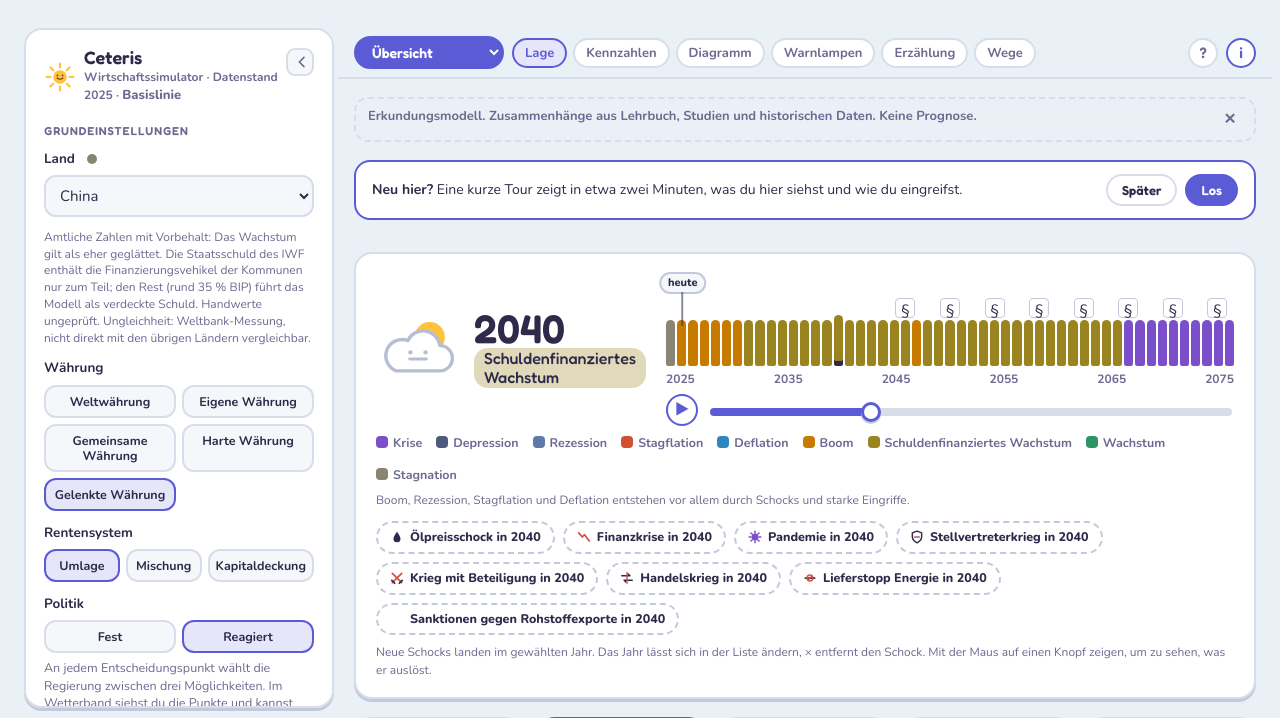
Update 2 in der Oberfläche › Update 4b: China per Link, gelenkte Währung, Hinweis; Wechsel weg lässt ihn verschwinden
Expected: the radio button "Gelenkte Währung" is shown, [44,478,176,511]
Expected: the text "Finanzierungsvehikel" is shown, [44,229,311,346]
Step 1. Select "Russland" in the dropdown labelled "Land" → (179, 196), box [44,175,314,217]
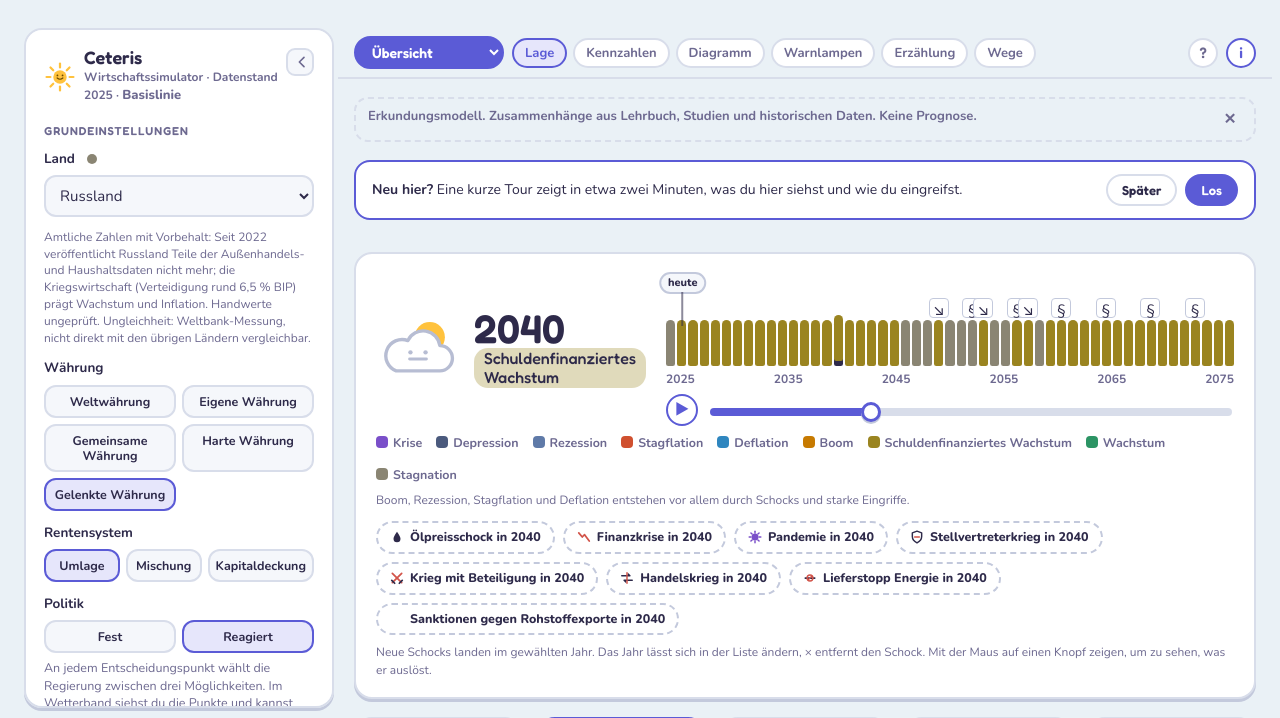
Now the text "Finanzierungsvehikel" is gone
Step 2. Select "Deutschland" in the dropdown labelled "Land" → (179, 196), box [44,175,314,217]
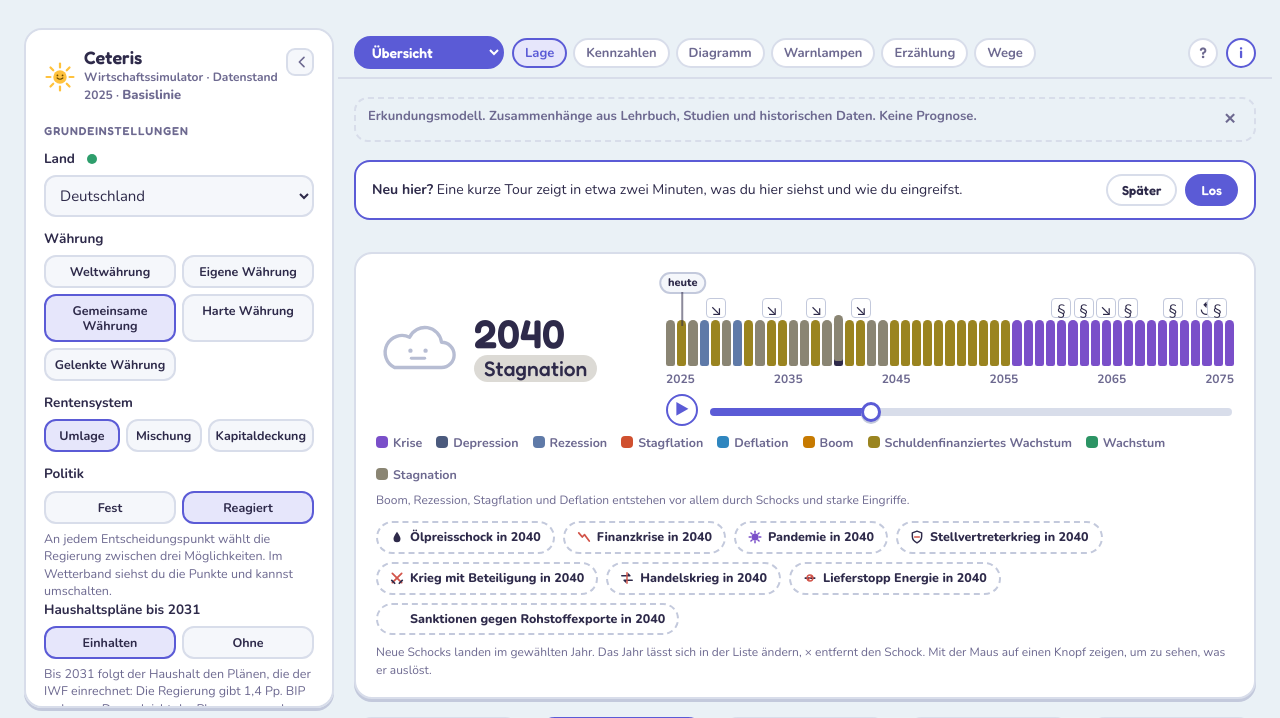
Now the text "Kriegswirtschaft" is gone
